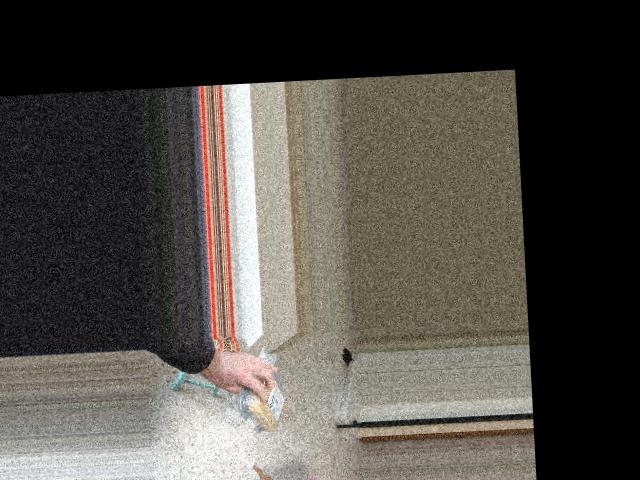cheese: (243, 369, 288, 435)
